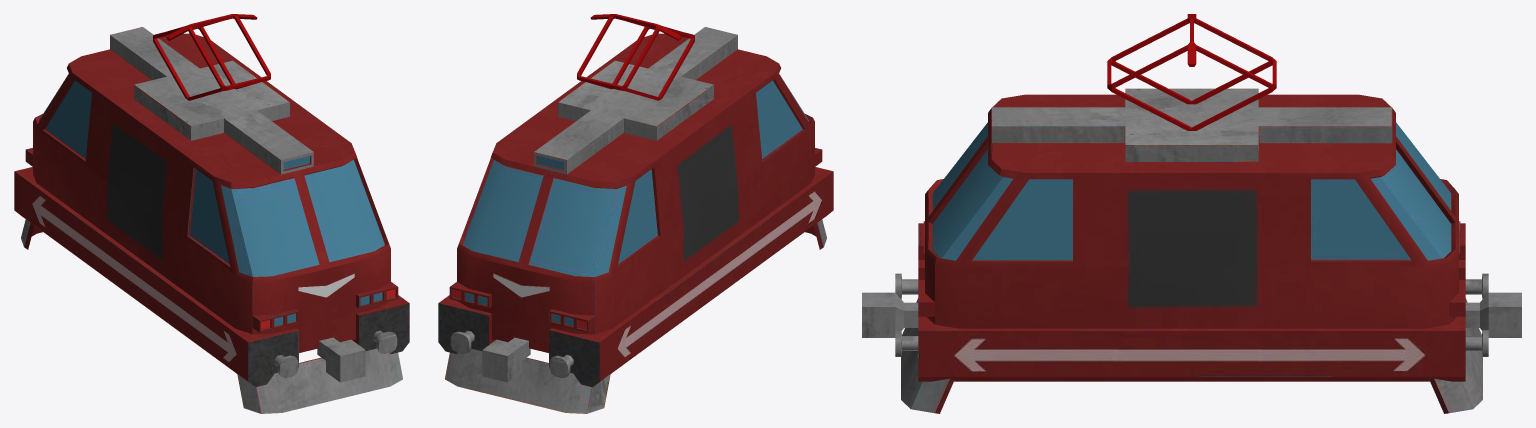
The model's file is loco_02-el2.glb.
The picture shows the model from 3 angles, left to right: view 1: azimuth 30°, elevation 25°; view 2: azimuth 150°, elevation 25°; view 3: azimuth 270°, elevation 25°; orthographic projection. The views are drawn at different scales.
Parts seen in each view (by area): view 1: Elect_2_Elect_2_0; view 2: Elect_2_Elect_2_0; view 3: Elect_2_Elect_2_0.
Part boxes in pixels (left/top/right/bottom): Elect_2_Elect_2_0: left=14, top=14, right=409, bottom=413; Elect_2_Elect_2_0: left=438, top=14, right=833, bottom=413; Elect_2_Elect_2_0: left=862, top=14, right=1521, bottom=413.
Size of the model in its own units: 3.64 by 6.27 by 11.03.
Materials: 3 (3 with a texture image).
